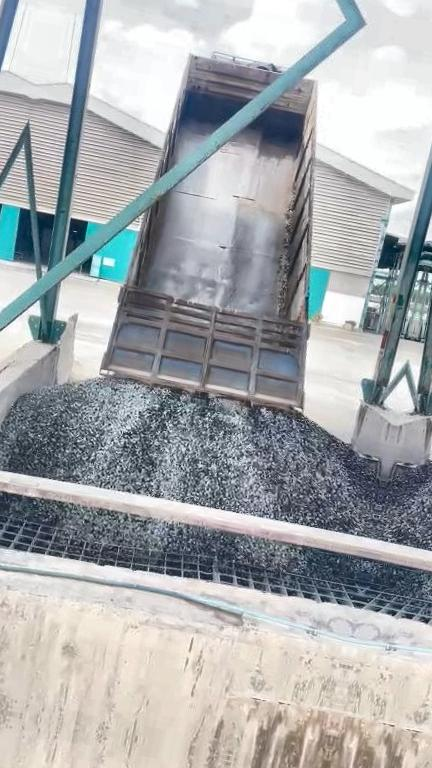gravel: (0, 378, 383, 536), (0, 490, 366, 579)
